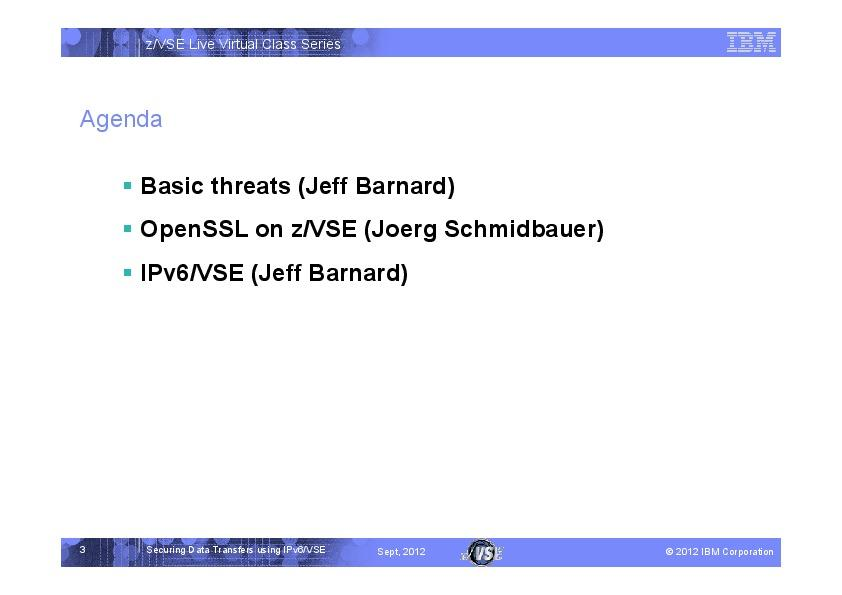paragraph: (121, 157, 661, 315)
subtitle: (68, 97, 171, 141)
title: (130, 29, 355, 56)
